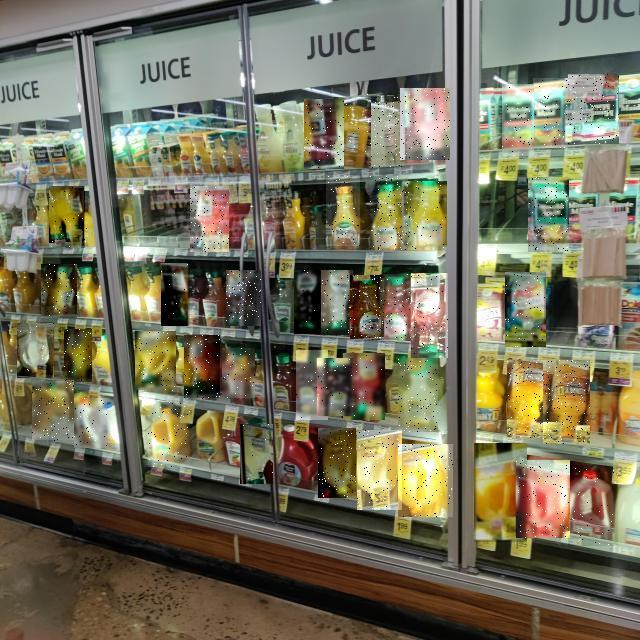Juice: (474, 444, 527, 544), (517, 461, 571, 539), (568, 465, 618, 546), (398, 444, 453, 517), (543, 360, 590, 444), (357, 430, 402, 510), (400, 88, 450, 160), (568, 75, 619, 145), (411, 273, 448, 358), (365, 94, 407, 168), (528, 177, 569, 252), (505, 272, 546, 347), (402, 182, 447, 250), (507, 361, 546, 439), (399, 358, 439, 432), (343, 353, 385, 420), (371, 176, 409, 250), (305, 99, 345, 169), (149, 402, 191, 467), (333, 97, 371, 168), (318, 428, 356, 498), (190, 186, 229, 252), (32, 382, 74, 442), (534, 79, 570, 149), (135, 332, 176, 392), (326, 175, 360, 246), (50, 187, 88, 249), (184, 336, 220, 400), (502, 84, 534, 156), (380, 274, 414, 340), (296, 350, 328, 420), (351, 275, 385, 340), (318, 359, 356, 417), (18, 323, 58, 378), (321, 270, 353, 335), (240, 425, 273, 485), (226, 270, 261, 326), (41, 264, 77, 318), (162, 263, 192, 326), (294, 270, 321, 334), (222, 348, 255, 398), (74, 399, 107, 449), (64, 330, 92, 384)
